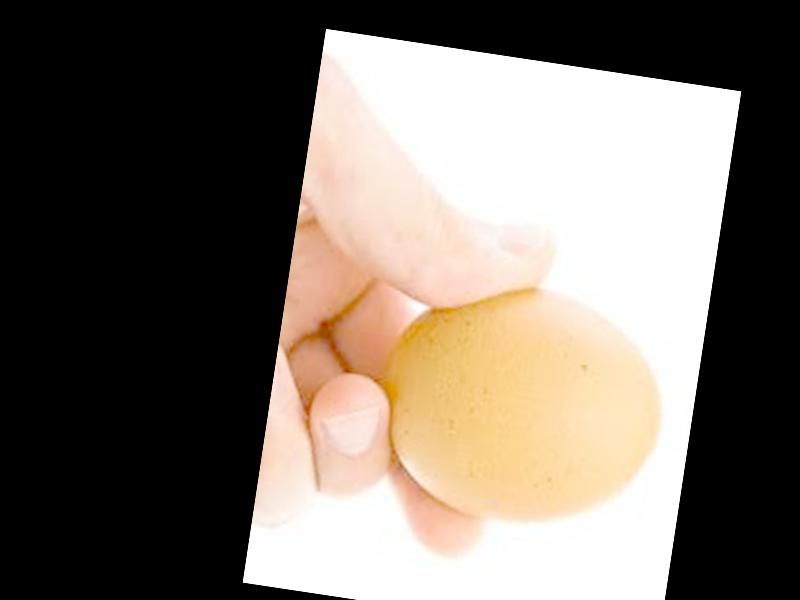Eggs: (373, 269, 679, 543)
